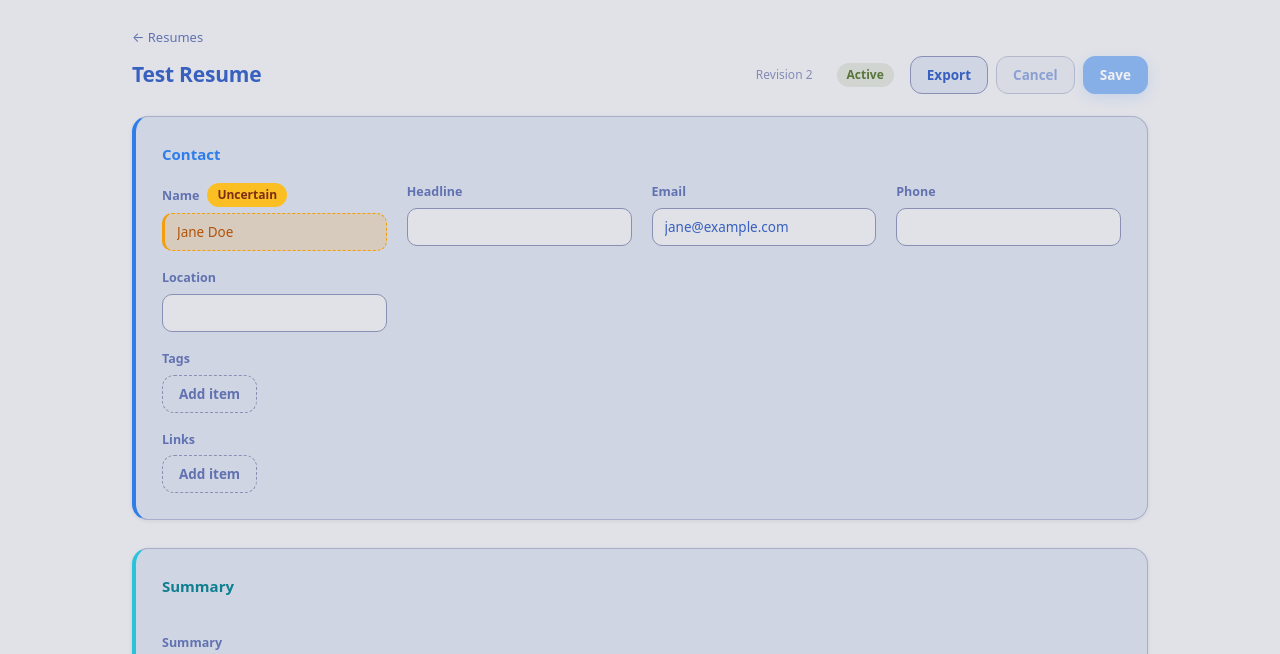
Test: ResumeEditor › shows the ApiError detail on 400 and keeps the draft
Replace the text in the field named "Name (unverified)" with "Jane Smith": (274, 232) left=162, top=213, right=387, bottom=251
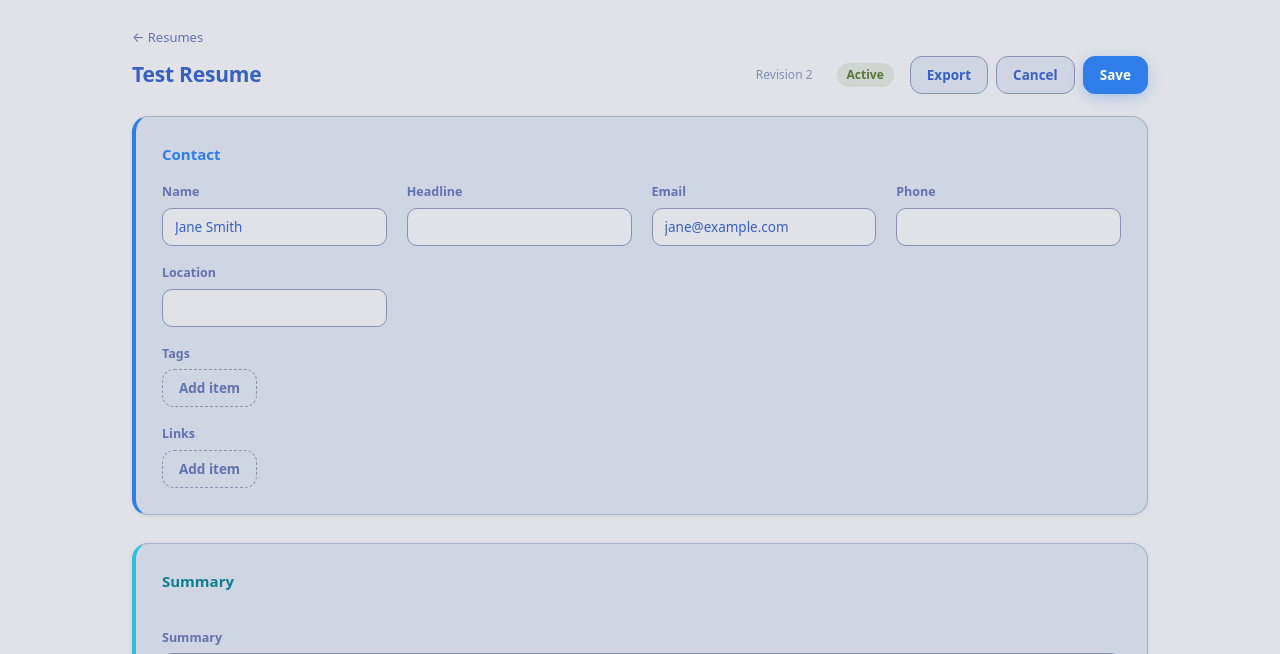
Click the button "Save": (1115, 74) left=1083, top=56, right=1148, bottom=94
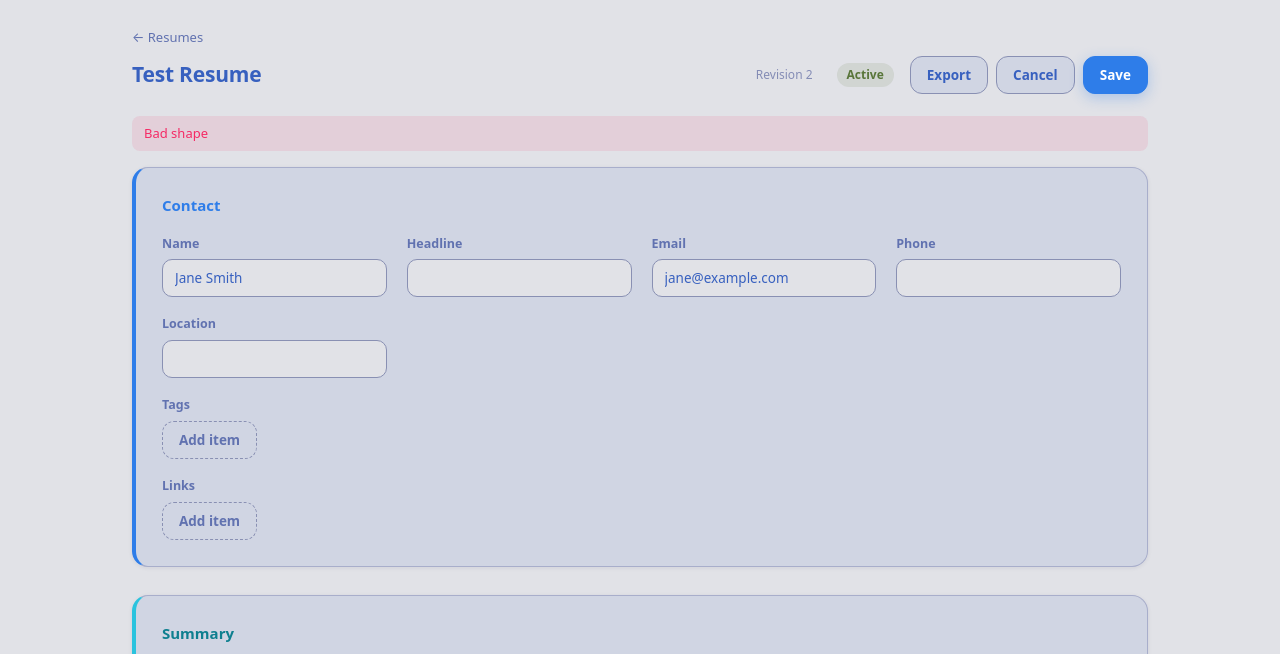
expect the text "Bad shape" is shown: met, box left=132, top=116, right=1148, bottom=151
